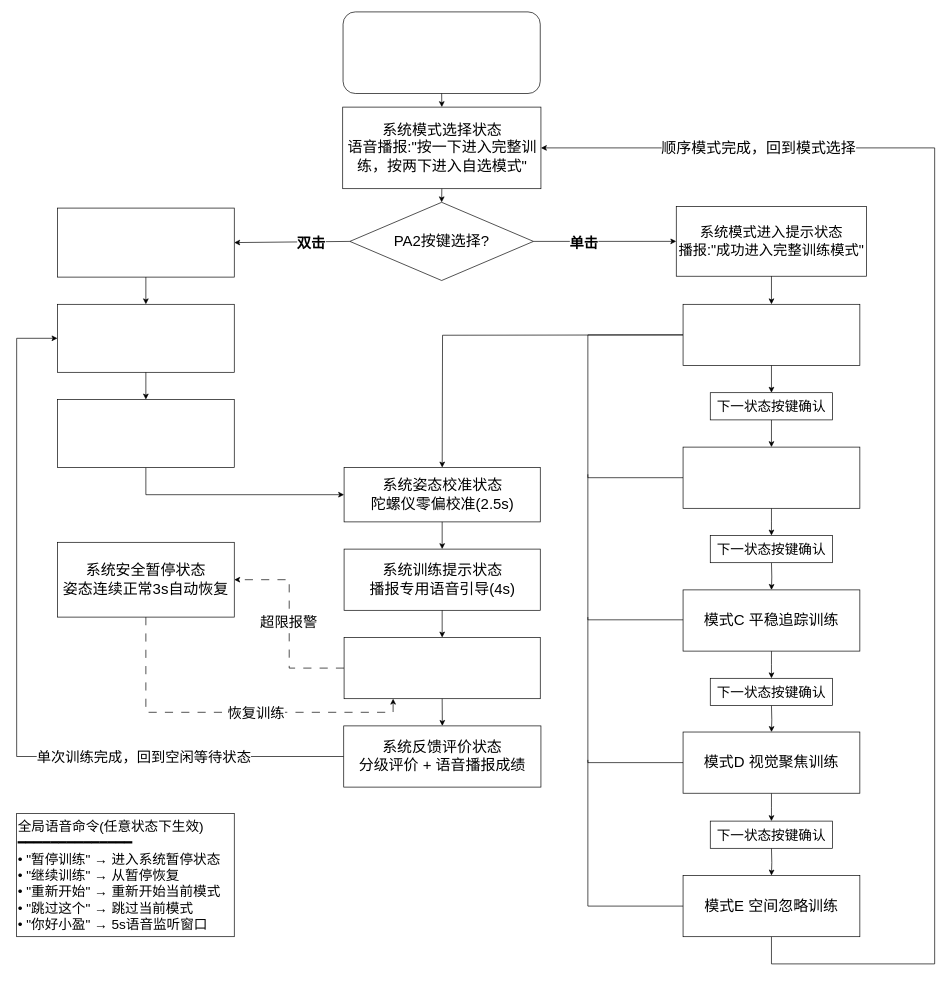
Some shapes in this 952 by 981 pixel diagram are drawn without their labels. Each missing label, with the centre of its shape:
操作者说出训练命令词 语音识别→回传ID →开始执行对应训练模式: the point at 145,433
模式A 注视稳定性训练: the point at 771,335
模式B 扫视训练: the point at 771,477
系统上电 初始化所有模块: the point at 441,52
系统模式进入提示状态 播报:"成功进入自选模式": the point at 145,242
系统空闲等待状态 静默等待语音命令词: the point at 145,338
系统训练执行状态 每10ms: 姿态监测+执行训练: the point at 441,668
